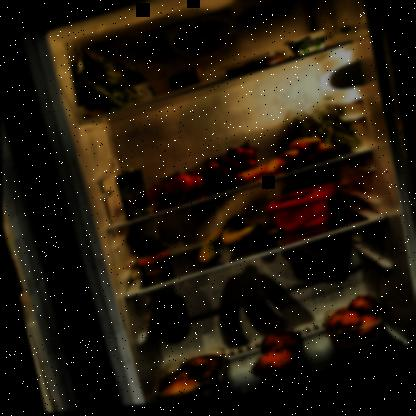banana: (188, 207, 287, 273)
butter: (263, 183, 347, 244)
carrot: (276, 133, 339, 178), (232, 162, 283, 191)
cheese: (165, 67, 208, 97)
corn: (134, 246, 174, 284)
green_beans: (282, 96, 360, 174)
heavy_cream: (114, 166, 150, 223)
onion: (316, 294, 388, 362)
potato: (146, 346, 232, 405)
shrimp: (224, 54, 286, 82)
spinach: (65, 30, 161, 125)
strawberries: (202, 143, 262, 197)
sweet_potato: (240, 319, 313, 393)
tomato: (142, 164, 214, 211)
